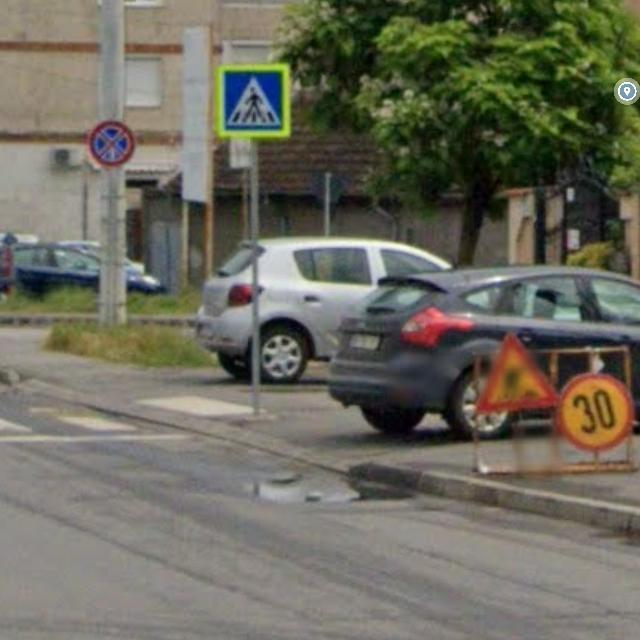forb_speed_over_30: (559, 373, 635, 452)
forb_waiting: (89, 121, 135, 168)
info_crosswalk: (215, 64, 292, 140)
